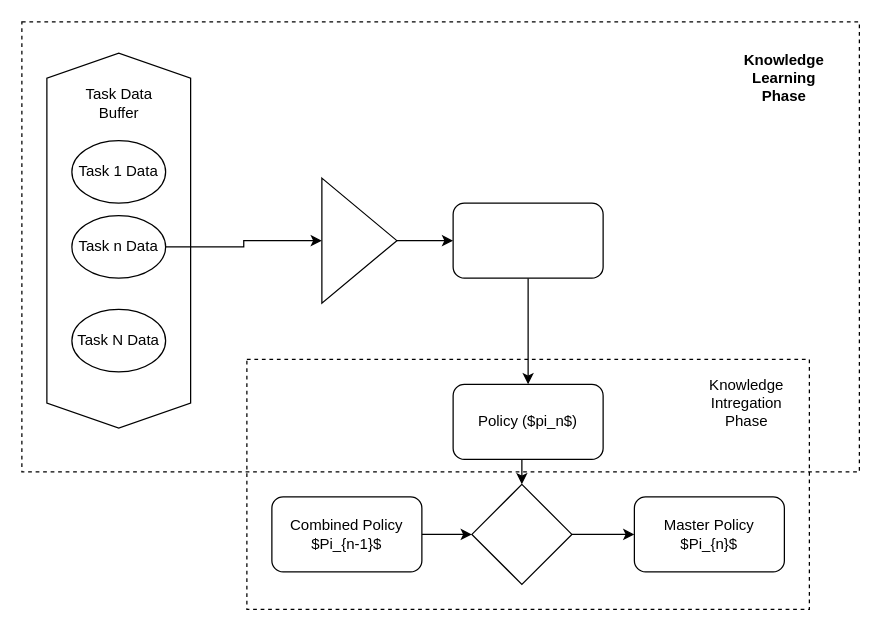
The diagram is 881 pixels wide and 631 high, and some of its shapes have lost their labels. The centre of each missing label's shape, as x and y in pixels:
"Policy Integrator (CL)" belongs at pixel 521 533.
"Policy Learner (Offline RL / Imitation Learning)" belongs at pixel 527 240.
"Task Selector" belongs at pixel 359 240.
